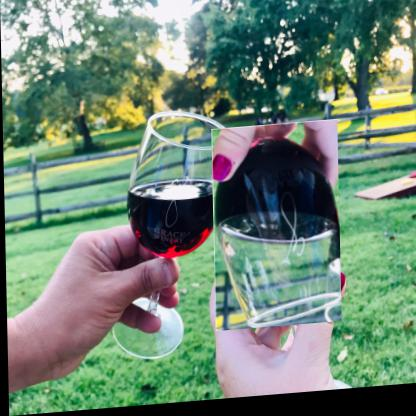alcohol_glass: (107, 108, 234, 364), (210, 125, 341, 336)
